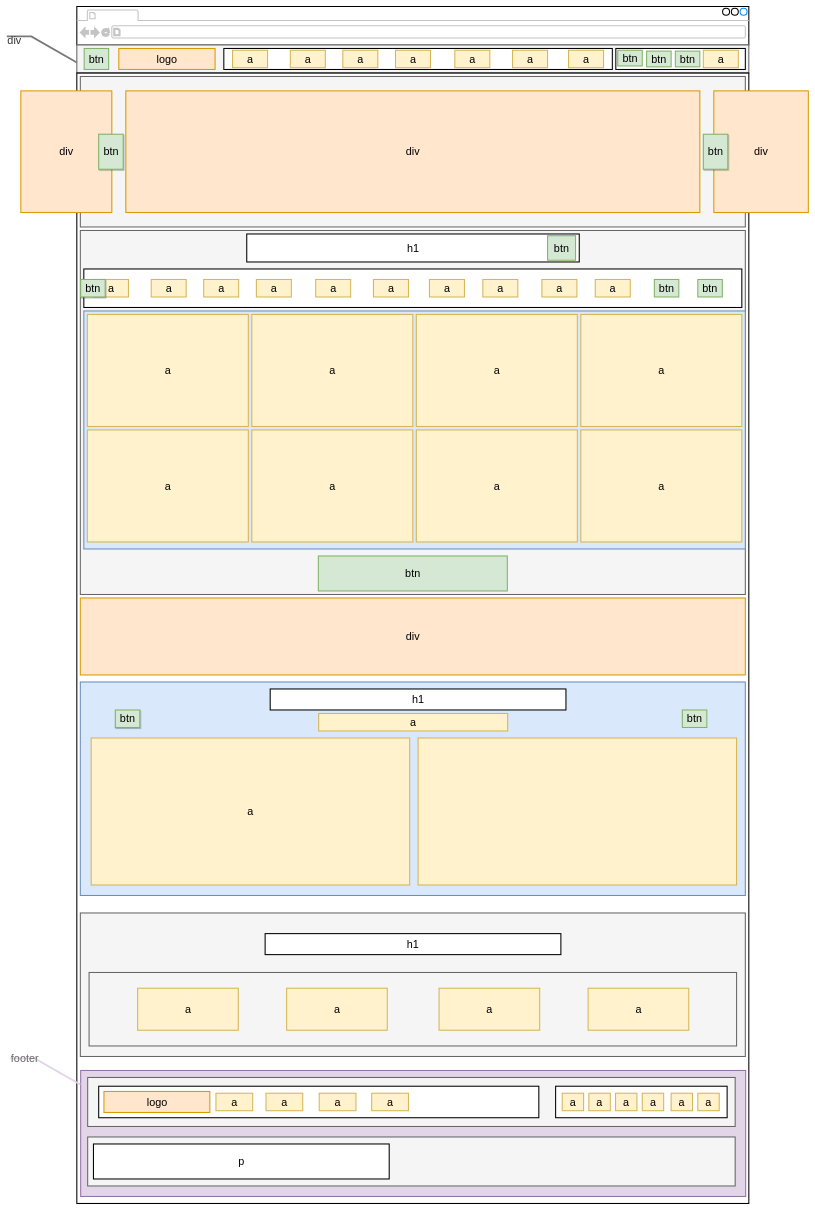
Some shapes in this 815 by 1210 pixel diagram are drawn without their labels. Here are the shapes that lost their labels. From the top down, the centre of each, then its label:
the point at 116,15: Page 1
the point at 166,32: https://www.draw.io
